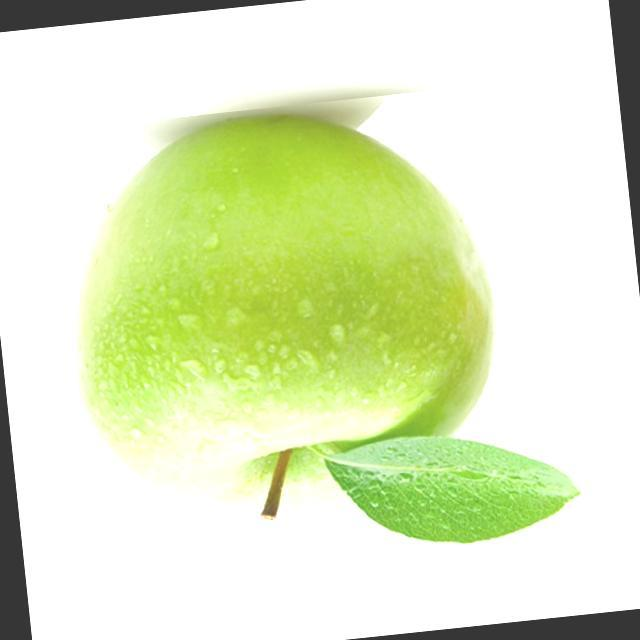Green Apple: (79, 112, 495, 506), (323, 435, 581, 544)
